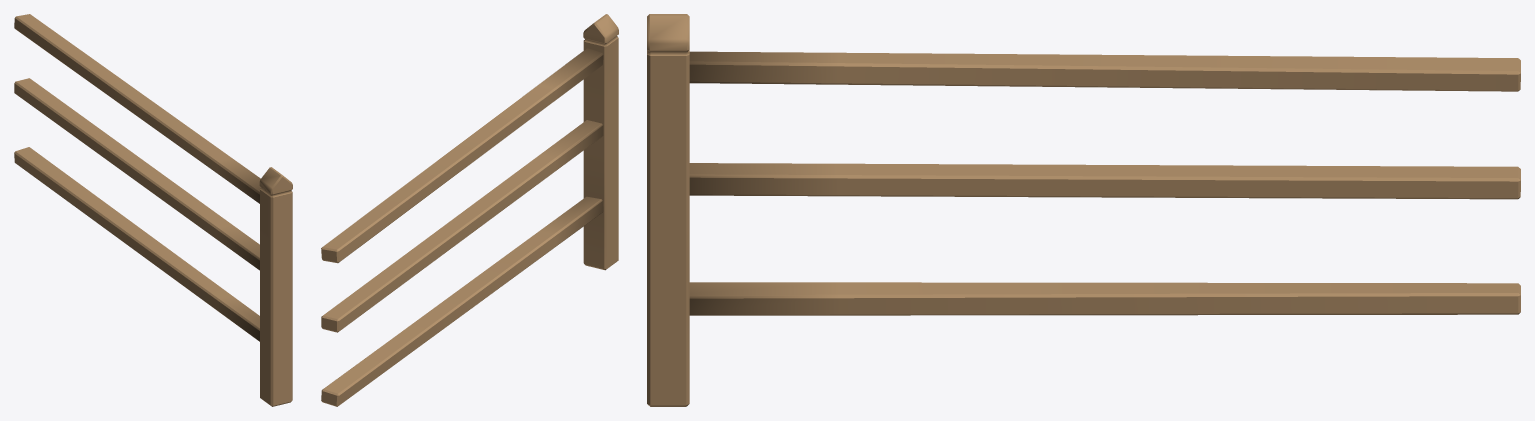
File: fence.glb
3 views of the same model, side by side, from view 1: azimuth 30°, elevation 25°; view 2: azimuth 150°, elevation 25°; view 3: azimuth 270°, elevation 25° (orthographic). The views are drawn at different scales.
Visible parts, largest first — view 1: PART; view 2: PART; view 3: PART.
Boxes of the visible parts, left/top/right/bottom form: PART: left=14, top=14, right=292, bottom=406; PART: left=321, top=14, right=618, bottom=406; PART: left=647, top=14, right=1520, bottom=406.
Size of the model in its own units: 0.1 by 0.9958 by 2.05.
